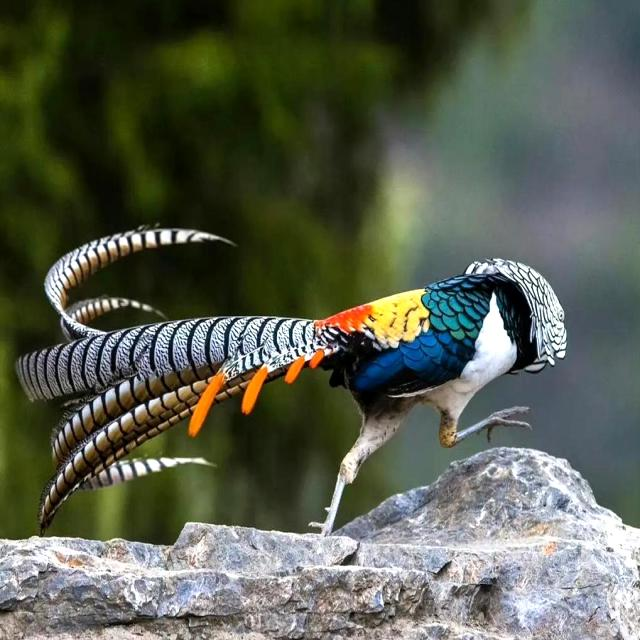Chrysolophus amherstiae: (16, 226, 319, 530)
